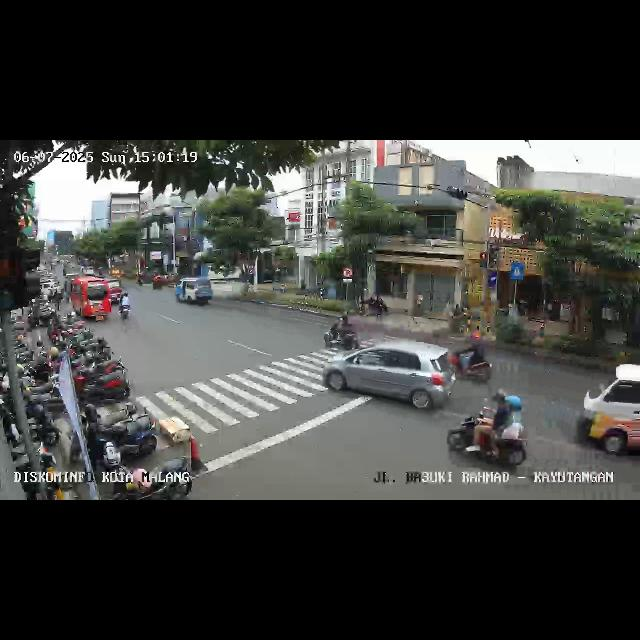car: (327, 338, 458, 418), (578, 362, 638, 462), (68, 276, 112, 322), (176, 278, 214, 308), (152, 273, 174, 291)
motorcycle: (447, 390, 533, 474), (443, 337, 495, 387), (324, 314, 360, 351), (119, 290, 133, 324)
